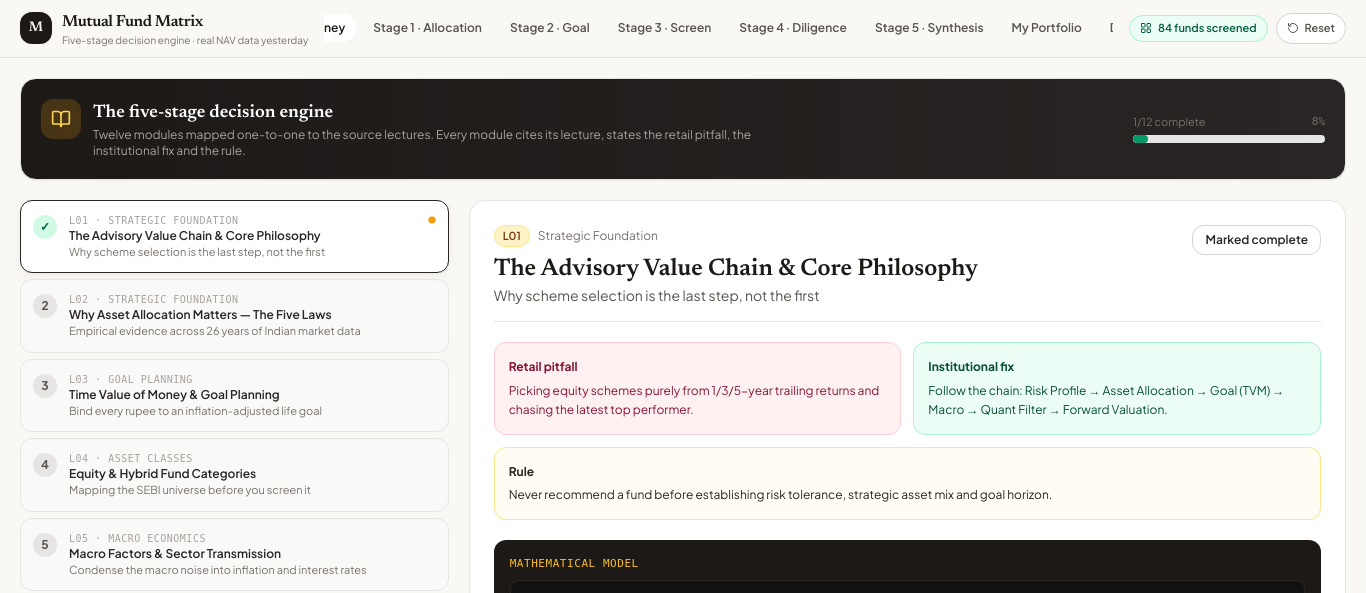
Test case: app navigation › Stage 4 review-allocation returns to Stage 1 without losing state (your example)
The image size is (1366, 593).
Expected: the navigation bar named "stages" is shown, [324,14,1113,42]
Click the link "Stage 4 · Diligence": click(793, 28) [739,20,847,35]
(page scrolled)
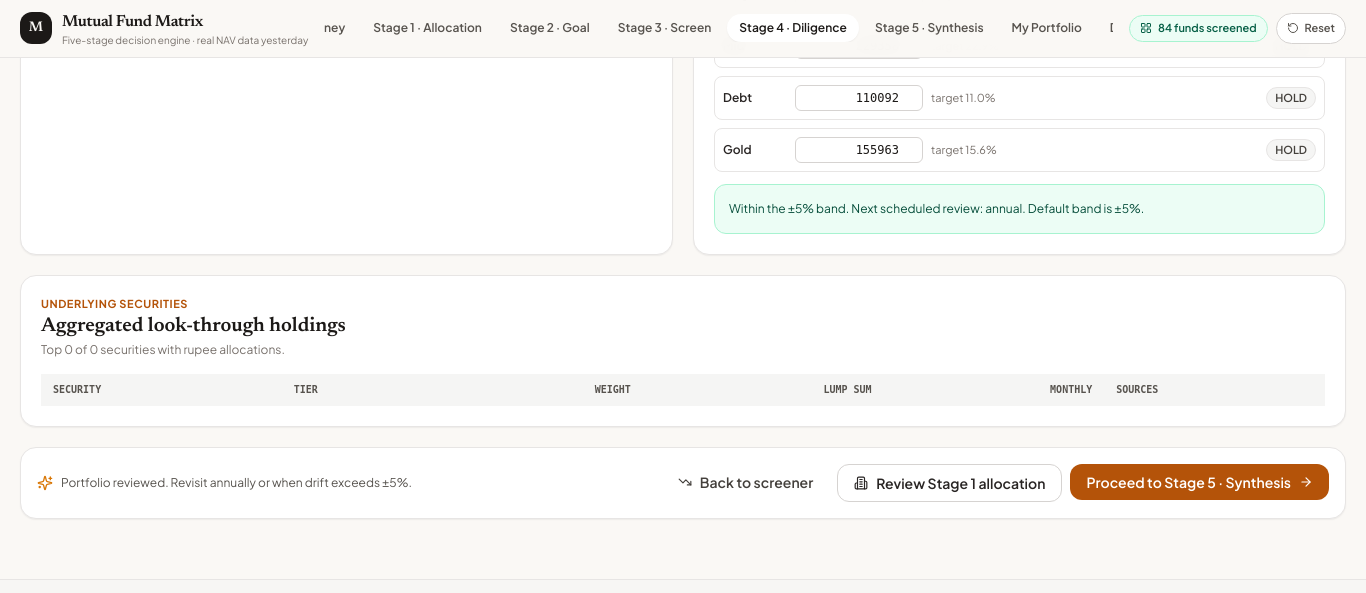
Click the link "Review Stage 1 allocation": click(950, 483) [837,464,1062,502]
(page scrolled)
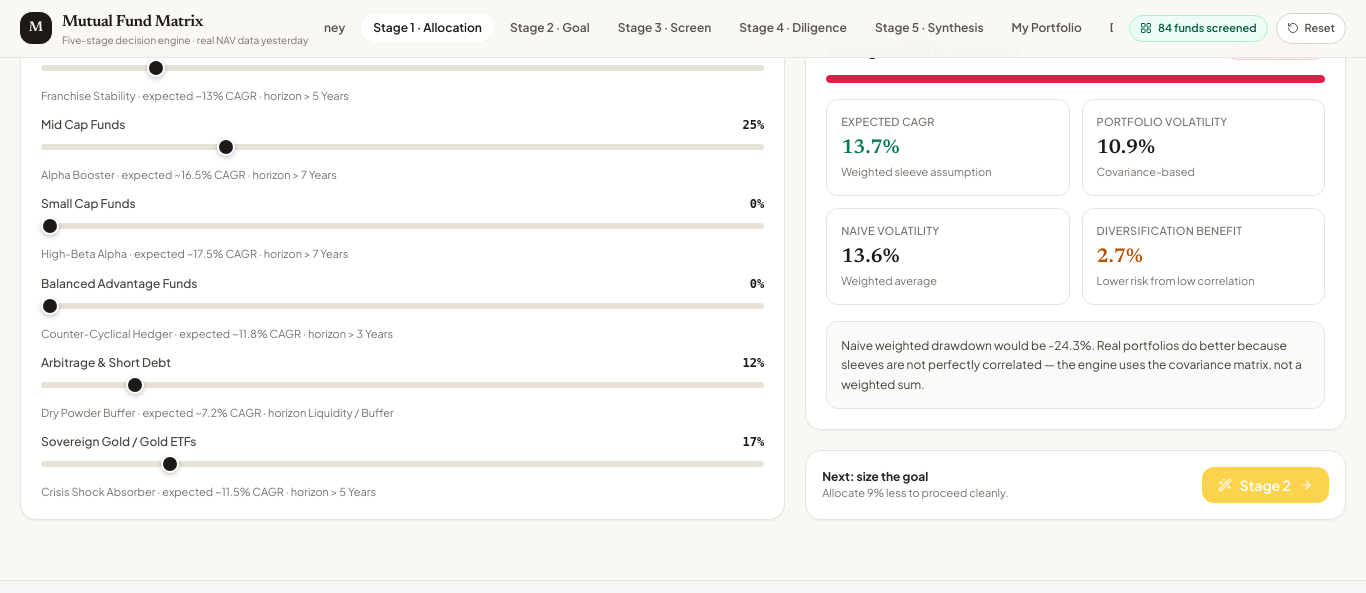
# And forward again still works.
Click the link "Stage 4 · Diligence": click(793, 28) [739,20,847,35]
(page scrolled)
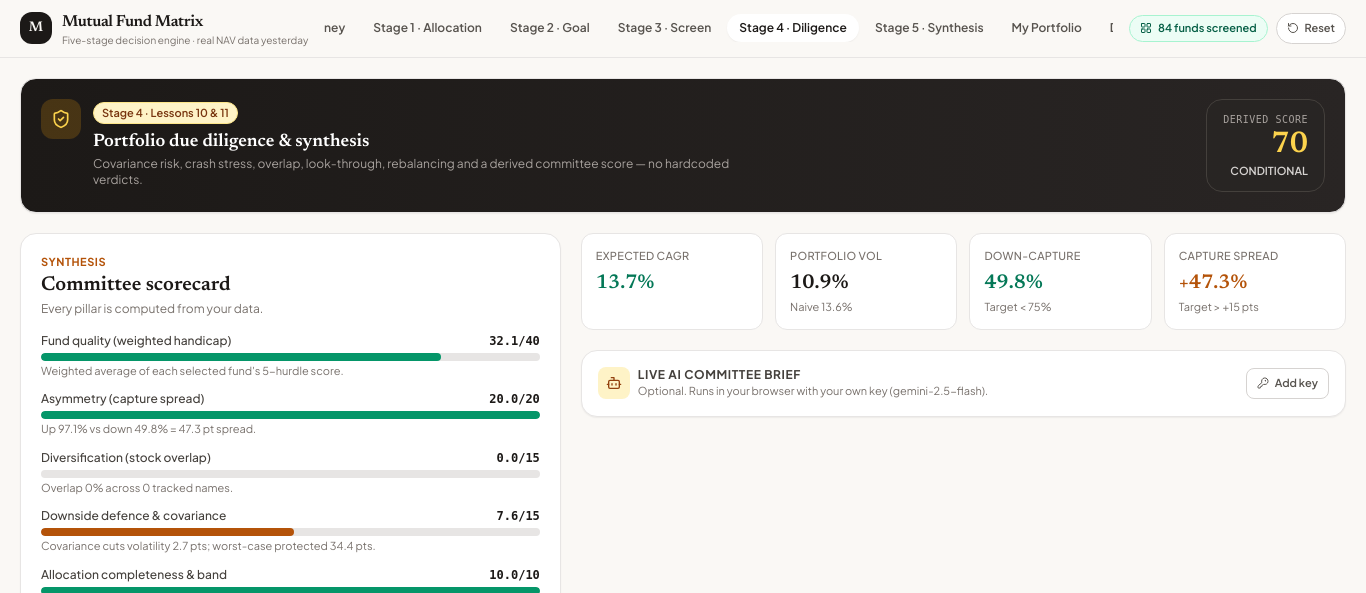
Expected: the heading "Portfolio due diligence & synthesis" is shown, [93,133,370,151]
